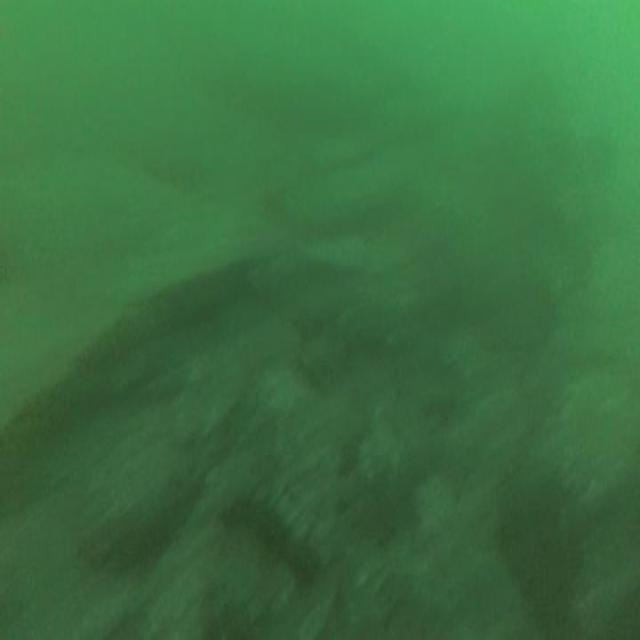holothurian: (220, 484, 322, 583)
